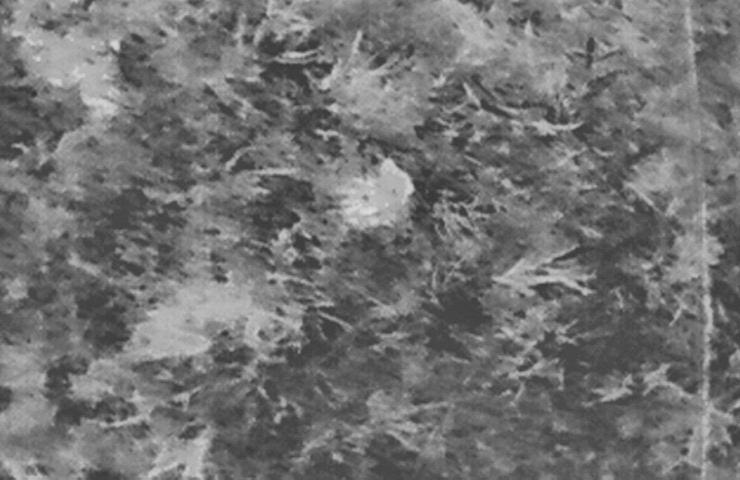landmines: (339, 156, 419, 232)
